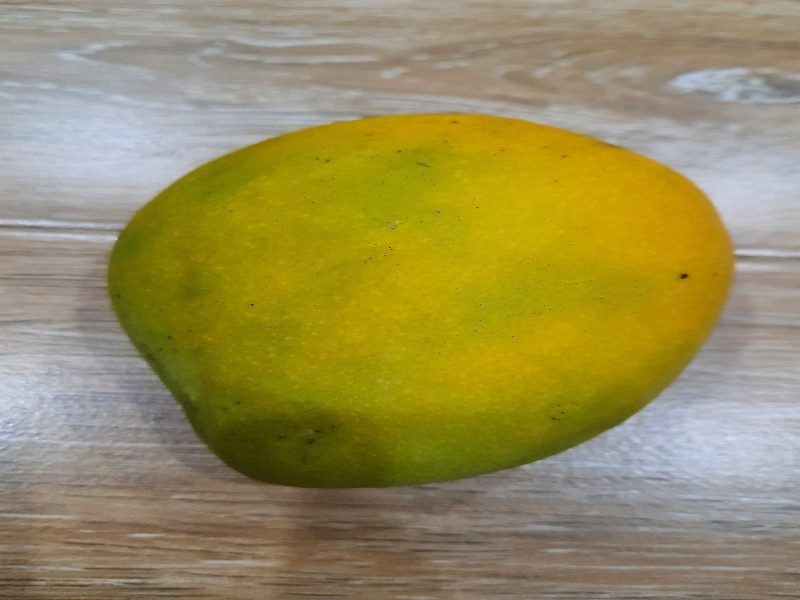fruit: (106, 109, 739, 490)
